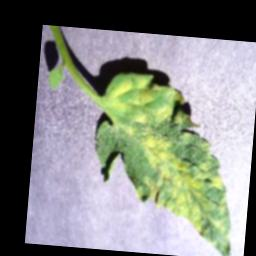Leaf_Mold: (94, 71, 245, 256)
